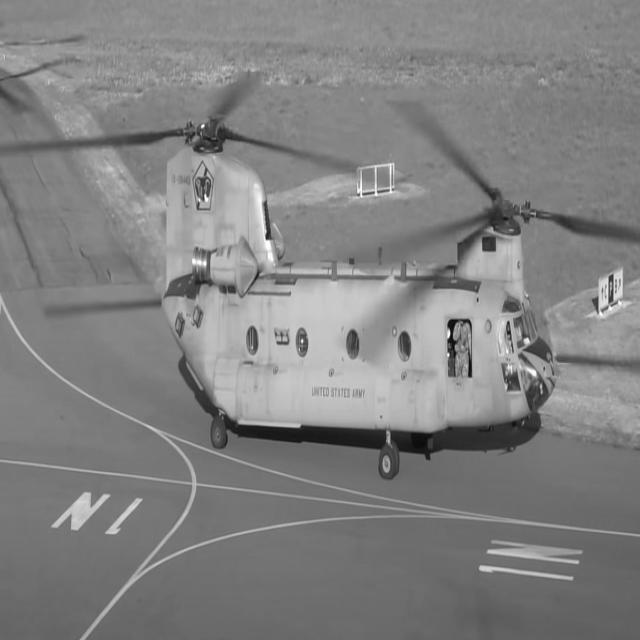Helicopter: (115, 112, 558, 479)
